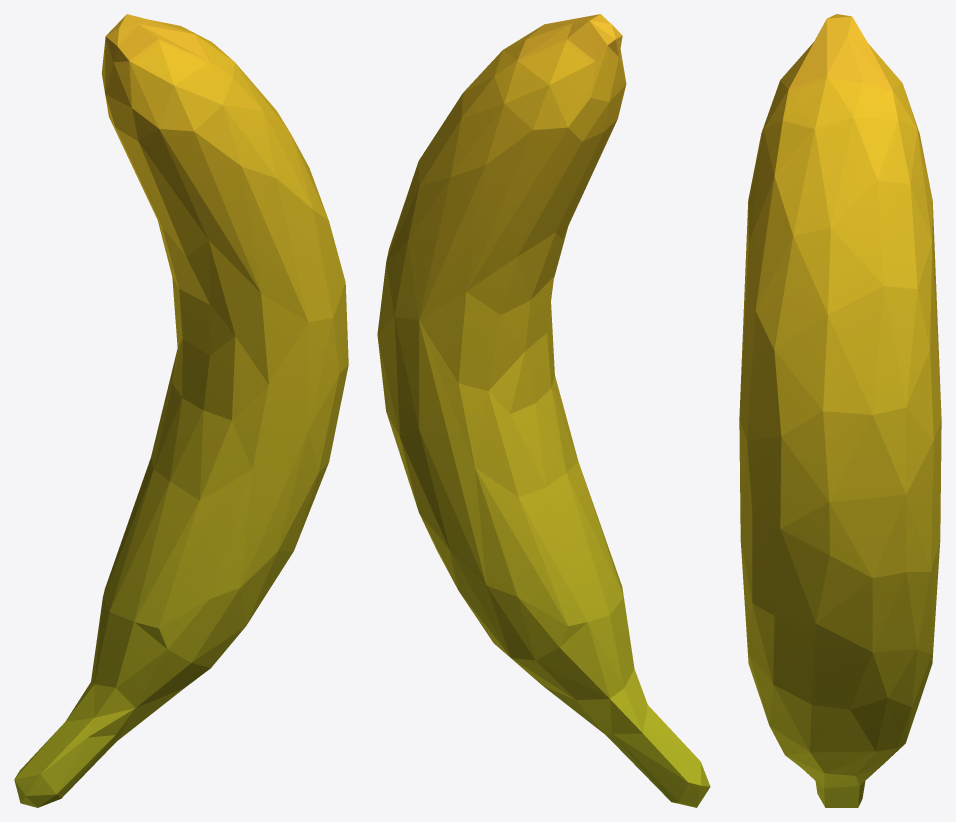
The model's file is SM_Food_Bananna_Closed.fbx.
The picture shows the model from 3 angles, left to right: view 1: azimuth 30°, elevation 25°; view 2: azimuth 150°, elevation 25°; view 3: azimuth 270°, elevation 25°; orthographic projection. The views are drawn at different scales.
Visible parts, largest first — view 1: SM_Food_Bananna_Closed; view 2: SM_Food_Bananna_Closed; view 3: SM_Food_Bananna_Closed.
Boxes of the visible parts, <box> form: SM_Food_Bananna_Closed: <box>14,14,348,807</box>; SM_Food_Bananna_Closed: <box>377,14,710,807</box>; SM_Food_Bananna_Closed: <box>739,14,941,807</box>.
Bounding box in the file's own units: 9.87 × 22.89 × 4.99.
